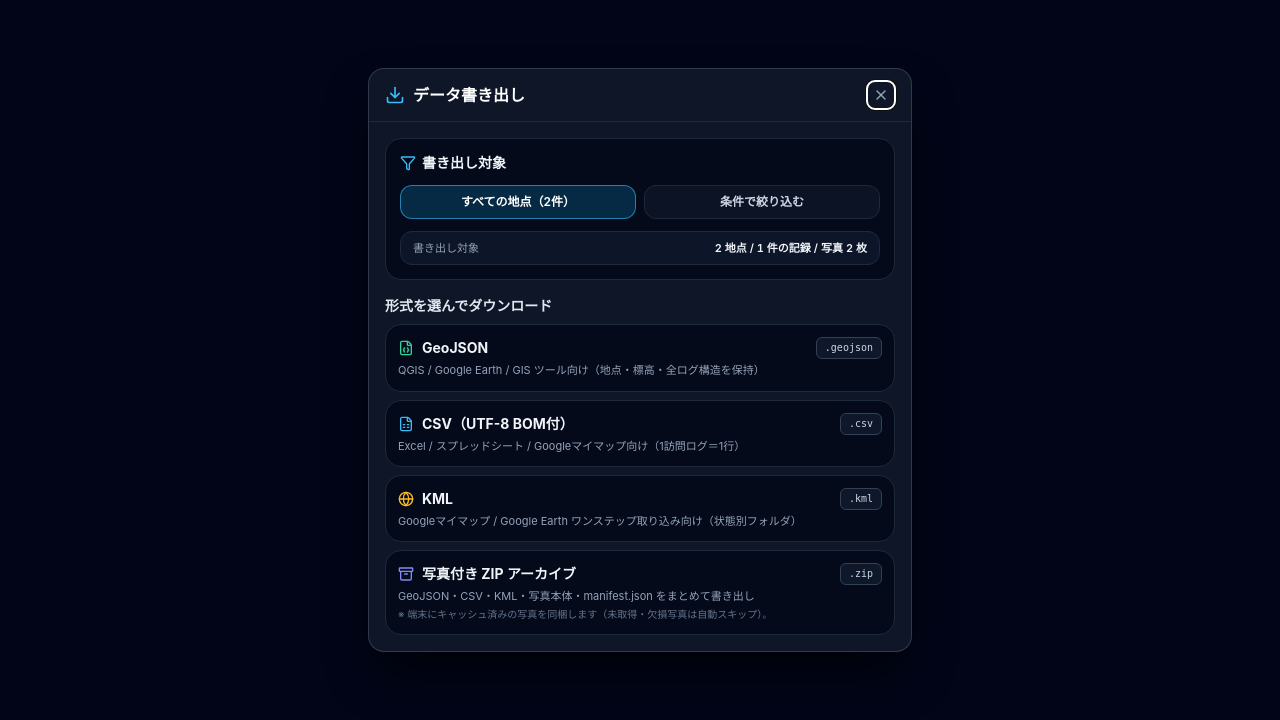
Test: ExportDialog and LayerMenu export entrypoint › updates target summary when switching scope and filters and disables buttons when empty
The image size is (1280, 720).
Expected: the element with test id "export-target-summary" shows "2 地点 / 1 件の記録 / 写真 2 枚", [400,231,880,265]
Click the button "条件で絞り込む".
click(762, 202)  # box [644,185,880,219]
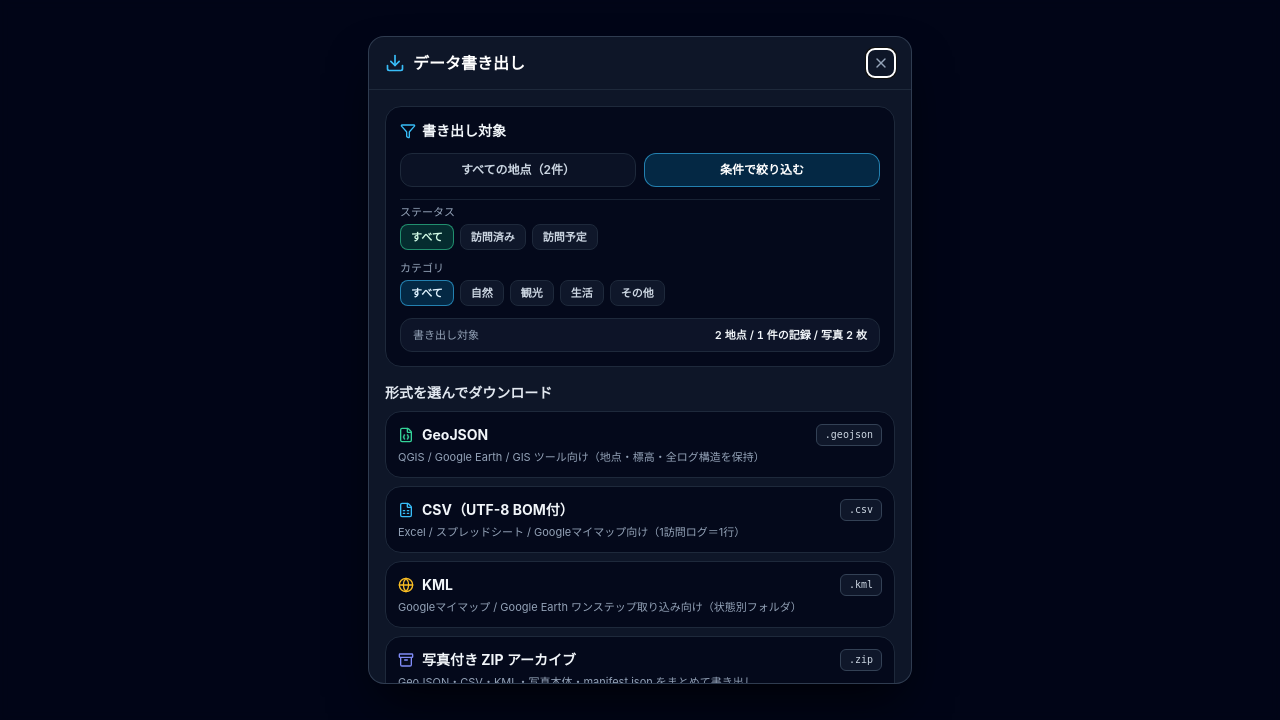
Click the button "訪問予定".
click(565, 237)  # box [532,224,598,250]
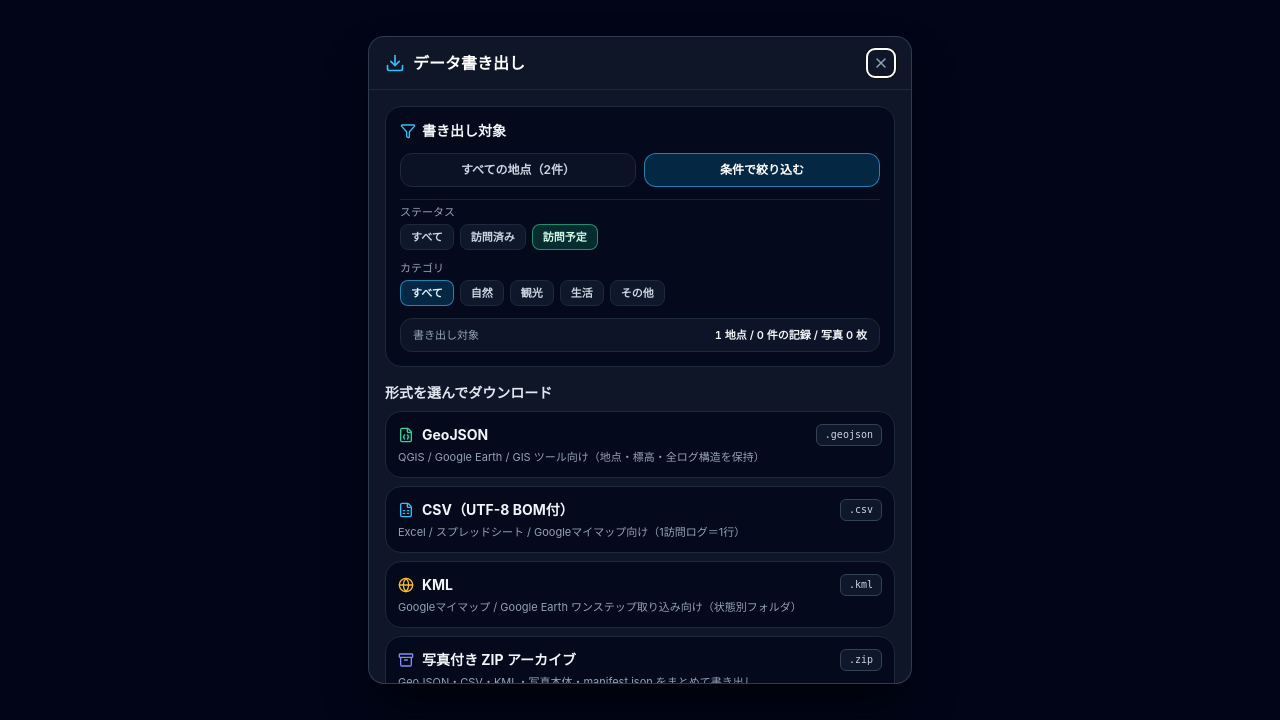
Expected: the element with test id "export-target-summary" shows "1 地点 / 0 件の記録 / 写真 0 枚", [400,318,880,352]
Click the button "自然".
click(482, 293)  # box [460,280,504,306]
(page scrolled)
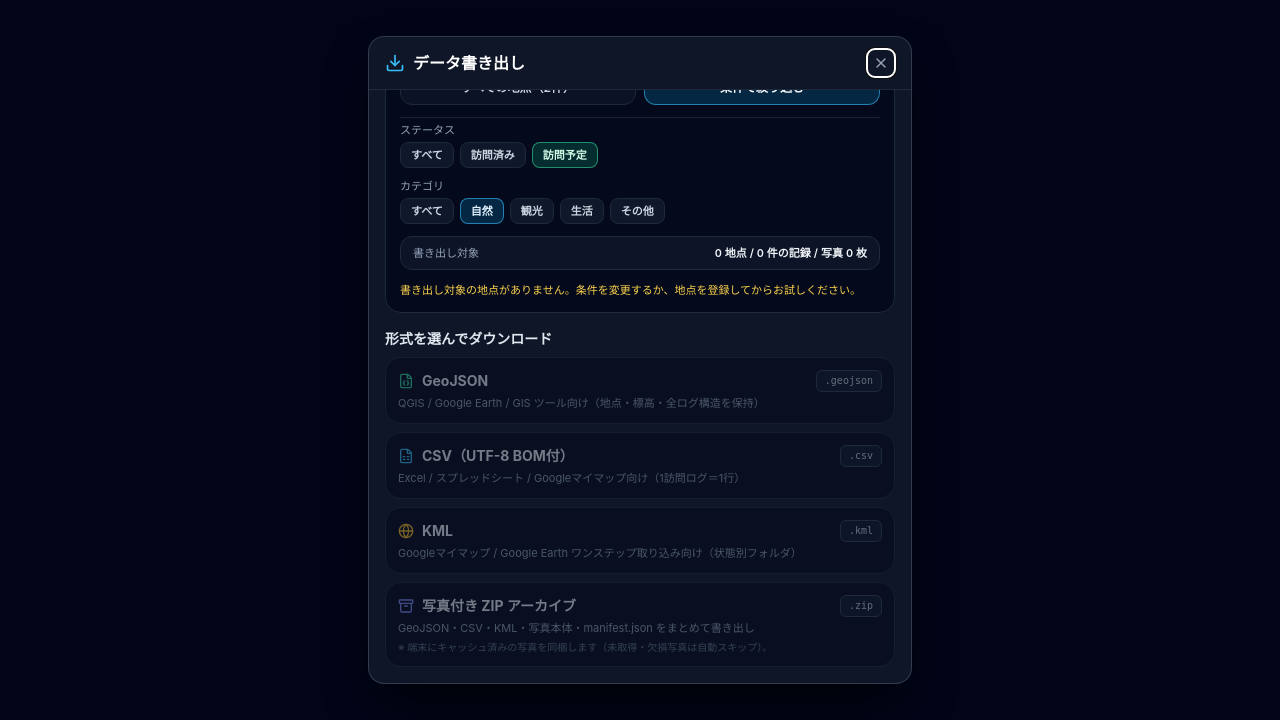
Expected: the element with test id "export-target-summary" shows "0 地点 / 0 件の記録 / 写真 0 枚", [400,236,880,270]
Expected: the button with id "export-geojson-btn" is disabled, [385,357,895,424]
Expected: the button with id "export-zip-btn" is disabled, [385,582,895,667]
